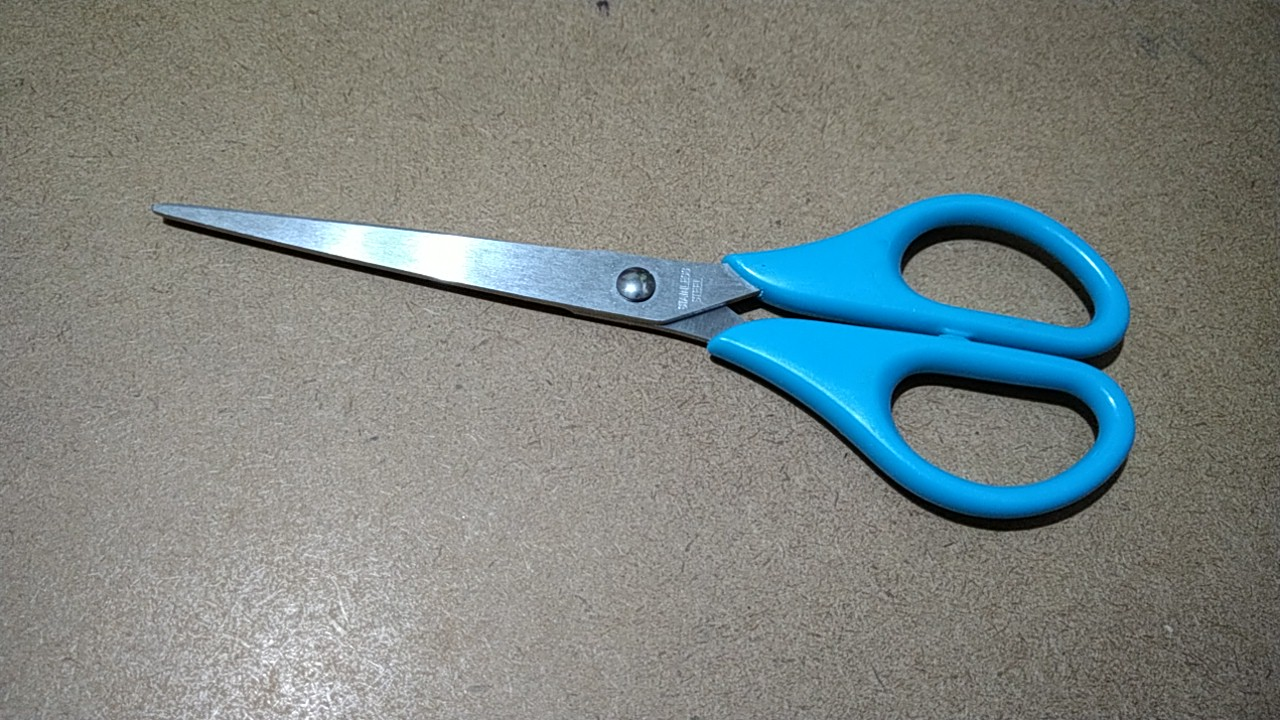scissor: (123, 176, 1154, 539)
